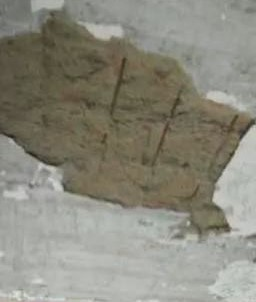Exposed reinforcement: (150, 84, 184, 169), (207, 113, 239, 174), (109, 56, 127, 116), (180, 184, 200, 202), (100, 132, 109, 145)
Spalling: (1, 9, 256, 239)
